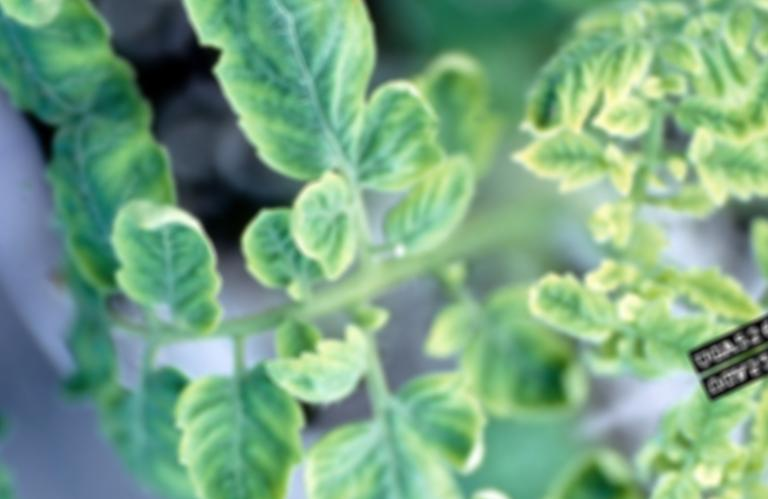Tomato leaf yellow virus: (204, 0, 441, 197), (280, 357, 506, 499), (144, 345, 350, 499), (91, 179, 250, 361), (309, 49, 470, 213), (356, 139, 524, 272), (512, 236, 648, 379), (216, 193, 343, 332), (255, 305, 389, 424), (271, 163, 394, 292), (505, 104, 631, 216)
